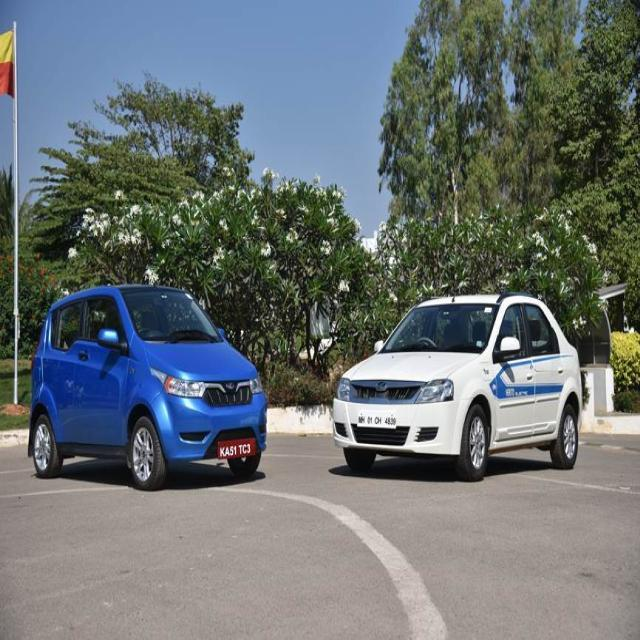plate: (213, 440, 260, 458), (356, 412, 397, 428)
